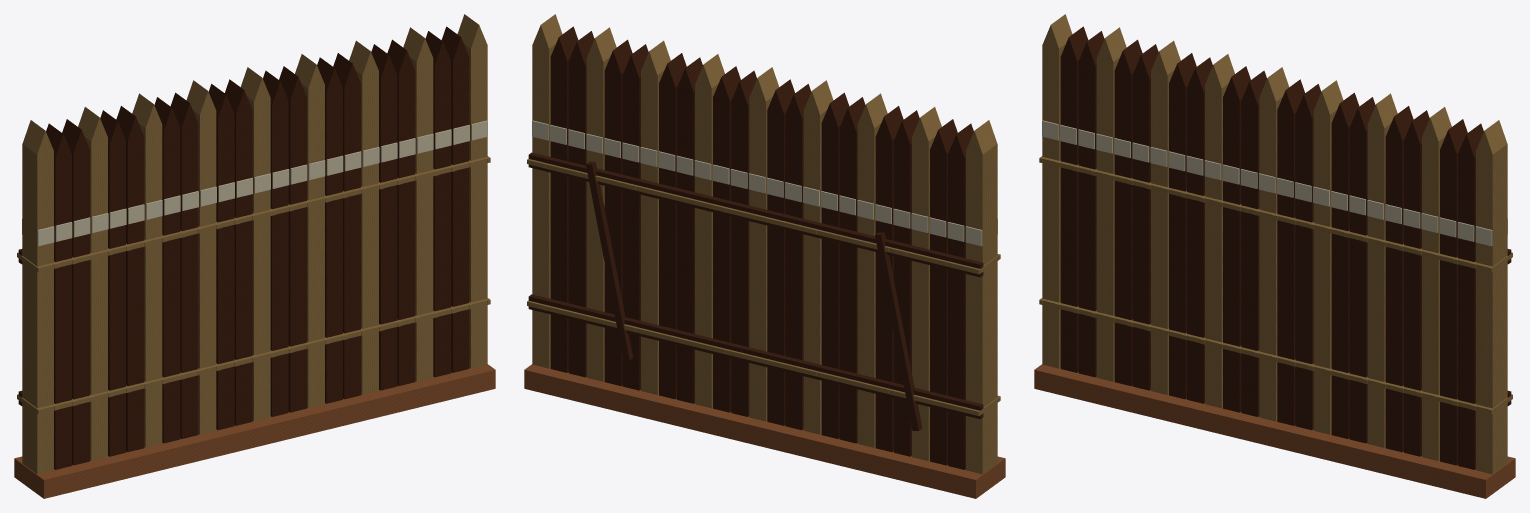
The model's file is Berber_Palisade_Age2_straight_6m.fbx.
3 renders of one model, left to right at view 1: azimuth 30°, elevation 25°; view 2: azimuth 150°, elevation 25°; view 3: azimuth 330°, elevation 25°, orthographic.
Parts seen in each view (by area): view 1: palm_split_post.019, palm_split_post.014, palm_split_post.012, palm_split_post.016, palm_split_post.009, earth_seat.002, palm_split_post.021, palm_split_post.018, palm_split_post.015, neutral_owner_band.002, front_lashing.002, lashing_side.002; view 2: palm_split_post.014, palm_split_post.019, palm_split_post.009, palm_split_post.012, palm_split_post.016, earth_seat.002, palm_split_post.018, palm_split_post.021, palm_split_post.015, continuous_rear_tie.002, neutral_owner_band.002, back_lashing.002 (+2 smaller); view 3: palm_split_post.012, palm_split_post.014, palm_split_post.019, palm_split_post.016, palm_split_post.009, earth_seat.002, palm_split_post.015, palm_split_post.018, palm_split_post.021, neutral_owner_band.002, front_lashing.002, lashing_side.002.
Part boxes in pixels (<box>): palm_split_post.019: <box>154,26,469,443</box>; palm_split_post.014: <box>62,31,451,465</box>; palm_split_post.012: <box>46,53,360,469</box>; palm_split_post.016: <box>100,39,415,456</box>; palm_split_post.009: <box>22,14,487,474</box>; earth_seat.002: <box>14,364,495,498</box>; palm_split_post.021: <box>186,27,433,434</box>; palm_split_post.018: <box>132,40,378,447</box>; palm_split_post.015: <box>78,54,324,460</box>; neutral_owner_band.002: <box>22,120,487,246</box>; front_lashing.002: <box>37,157,489,413</box>; lashing_side.002: <box>17,156,490,414</box>; palm_split_post.014: <box>568,31,957,465</box>; palm_split_post.019: <box>550,26,865,443</box>; palm_split_post.009: <box>532,14,997,474</box>; palm_split_post.012: <box>659,53,973,469</box>; palm_split_post.016: <box>604,39,919,456</box>; earth_seat.002: <box>524,364,1005,498</box>; palm_split_post.018: <box>641,40,887,447</box>; palm_split_post.021: <box>586,27,833,434</box>; palm_split_post.015: <box>695,54,941,460</box>; continuous_rear_tie.002: <box>528,152,983,419</box>; neutral_owner_band.002: <box>532,120,997,246</box>; back_lashing.002: <box>527,159,979,415</box>; palm_split_post.012: <box>1060,26,1375,443</box>; palm_split_post.014: <box>1078,31,1467,465</box>; palm_split_post.019: <box>1169,53,1483,469</box>; palm_split_post.016: <box>1114,39,1429,456</box>; palm_split_post.009: <box>1042,14,1507,474</box>; earth_seat.002: <box>1034,364,1515,498</box>; palm_split_post.015: <box>1096,27,1343,434</box>; palm_split_post.018: <box>1151,40,1397,447</box>; palm_split_post.021: <box>1205,54,1451,460</box>; neutral_owner_band.002: <box>1042,120,1507,246</box>; front_lashing.002: <box>1042,157,1492,413</box>; lashing_side.002: <box>1039,156,1512,414</box>.
Size of the model in its own units: 601 by 458 by 68.29.
4 materials, 4 textured.
